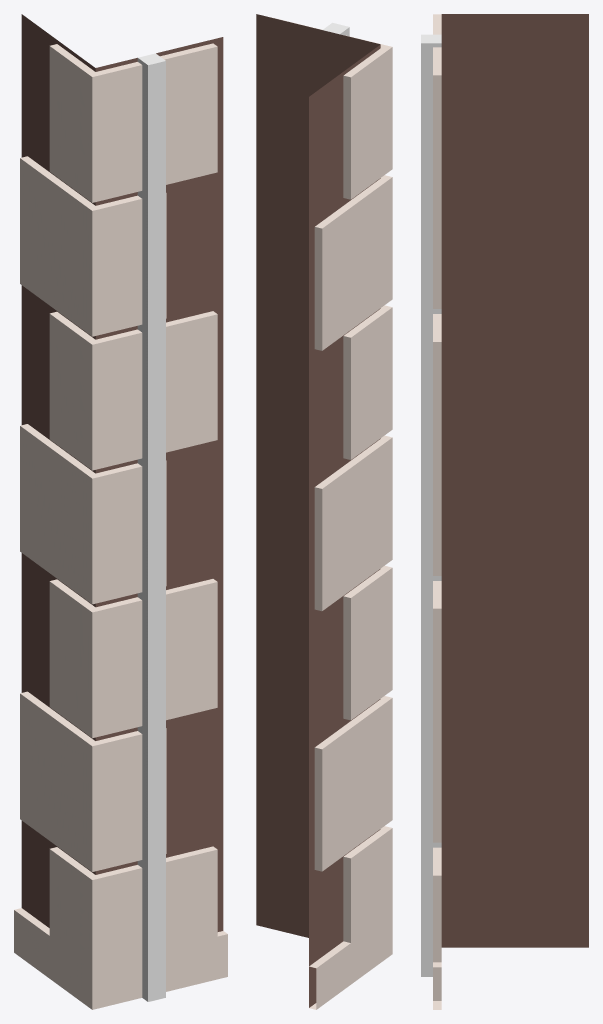
Rendered from mid-c1.fbx.
3 views of the same model, side by side, from view 1: azimuth 30°, elevation 25°; view 2: azimuth 150°, elevation 25°; view 3: azimuth 270°, elevation 25° (orthographic). The views are drawn at different scales.
Visible parts, largest first — view 1: a2000s2/800/mid-c1; view 2: a2000s2/800/mid-c1; view 3: a2000s2/800/mid-c1.
Boxes of the visible parts, x1,y1,x2,y2 form: a2000s2/800/mid-c1: (14, 14, 227, 1009); a2000s2/800/mid-c1: (256, 14, 392, 1009); a2000s2/800/mid-c1: (421, 14, 588, 1009).
Bounding box in the file's own units: 0.53 × 3.5 × 0.57.
